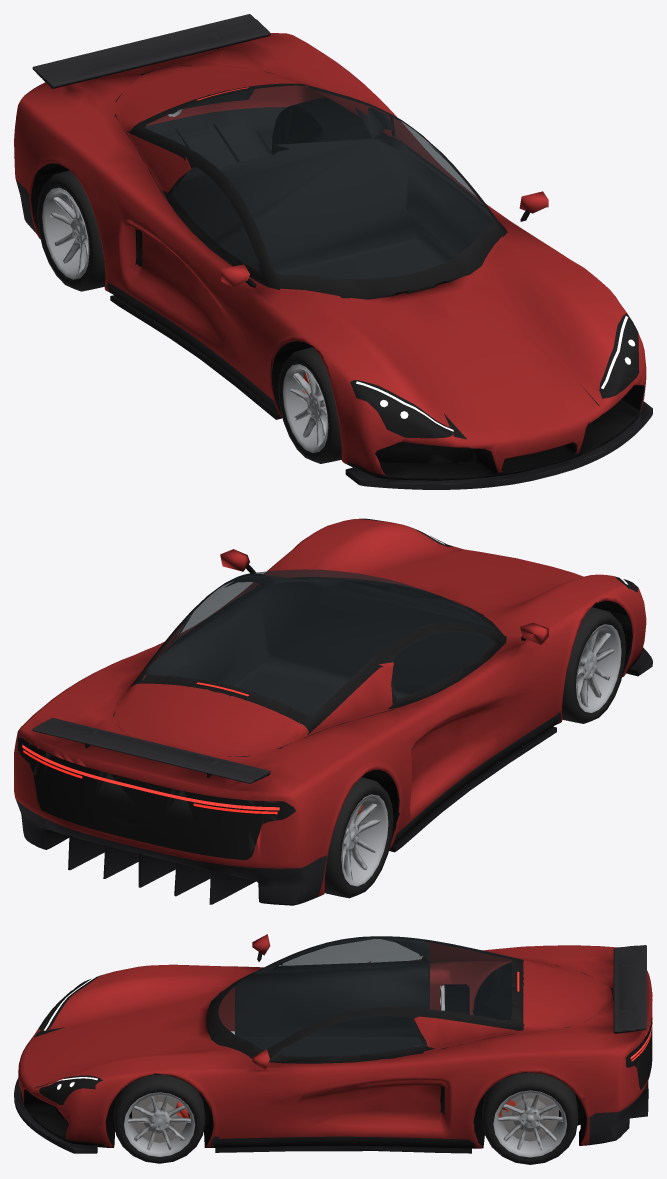
The model's file is aurion_lod1.glb.
3 views of the same model, one above another, from view 1: azimuth 30°, elevation 25°; view 2: azimuth 150°, elevation 25°; view 3: azimuth 270°, elevation 25° (orthographic). The views are drawn at different scales.
Visible parts, largest first — view 1: body, wheel_rr_mesh, wheel_fr_mesh; view 2: body, wheel_rr_mesh, wheel_fr_mesh; view 3: body, wheel_rl_mesh, wheel_fl_mesh.
Boxes of the visible parts, x1,y1,x2,y2 form: body: [14, 14, 652, 489]; wheel_rr_mesh: [37, 170, 105, 291]; wheel_fr_mesh: [278, 347, 341, 463]; body: [14, 518, 652, 905]; wheel_rr_mesh: [324, 777, 393, 898]; wheel_fr_mesh: [562, 607, 625, 723]; body: [14, 934, 652, 1153]; wheel_rl_mesh: [482, 1072, 578, 1164]; wheel_fl_mesh: [113, 1074, 205, 1163].
Bounding box in the file's own units: 2.13 × 1.2 × 4.65.
